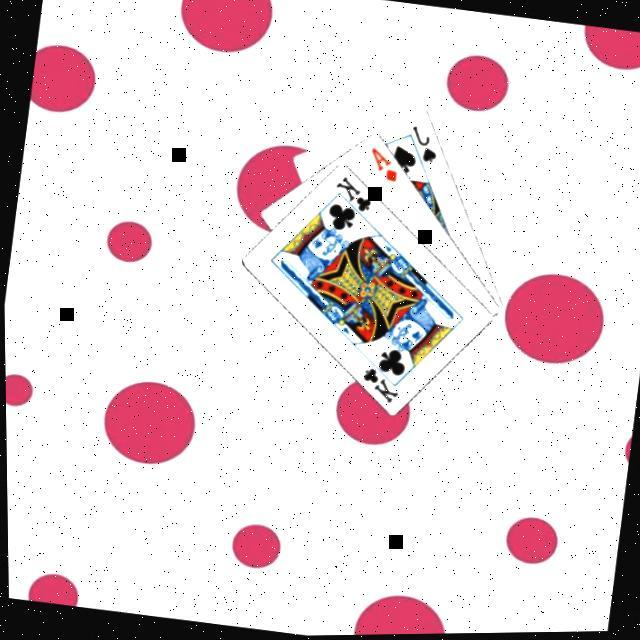AD: (363, 146, 404, 189)
JS: (404, 124, 445, 170)
KC: (328, 173, 378, 228), (356, 357, 406, 412)
